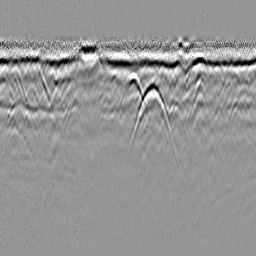cavity: (119, 71, 142, 106)
